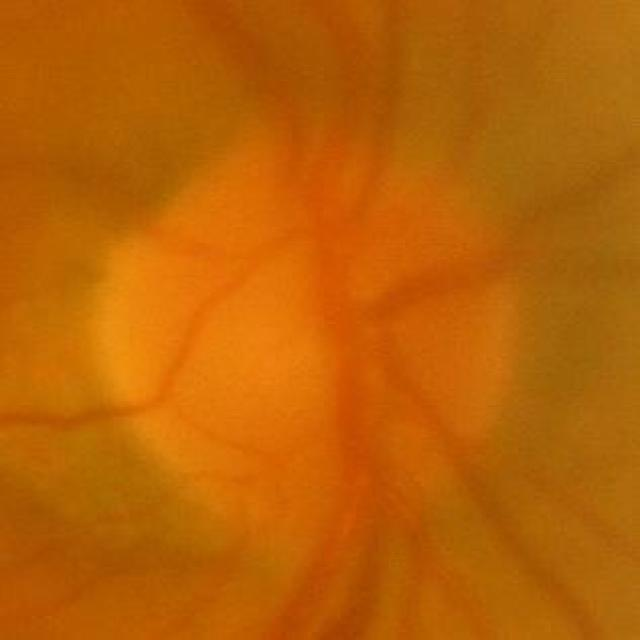OC: (279, 262, 387, 370)
OD: (94, 136, 516, 531)
